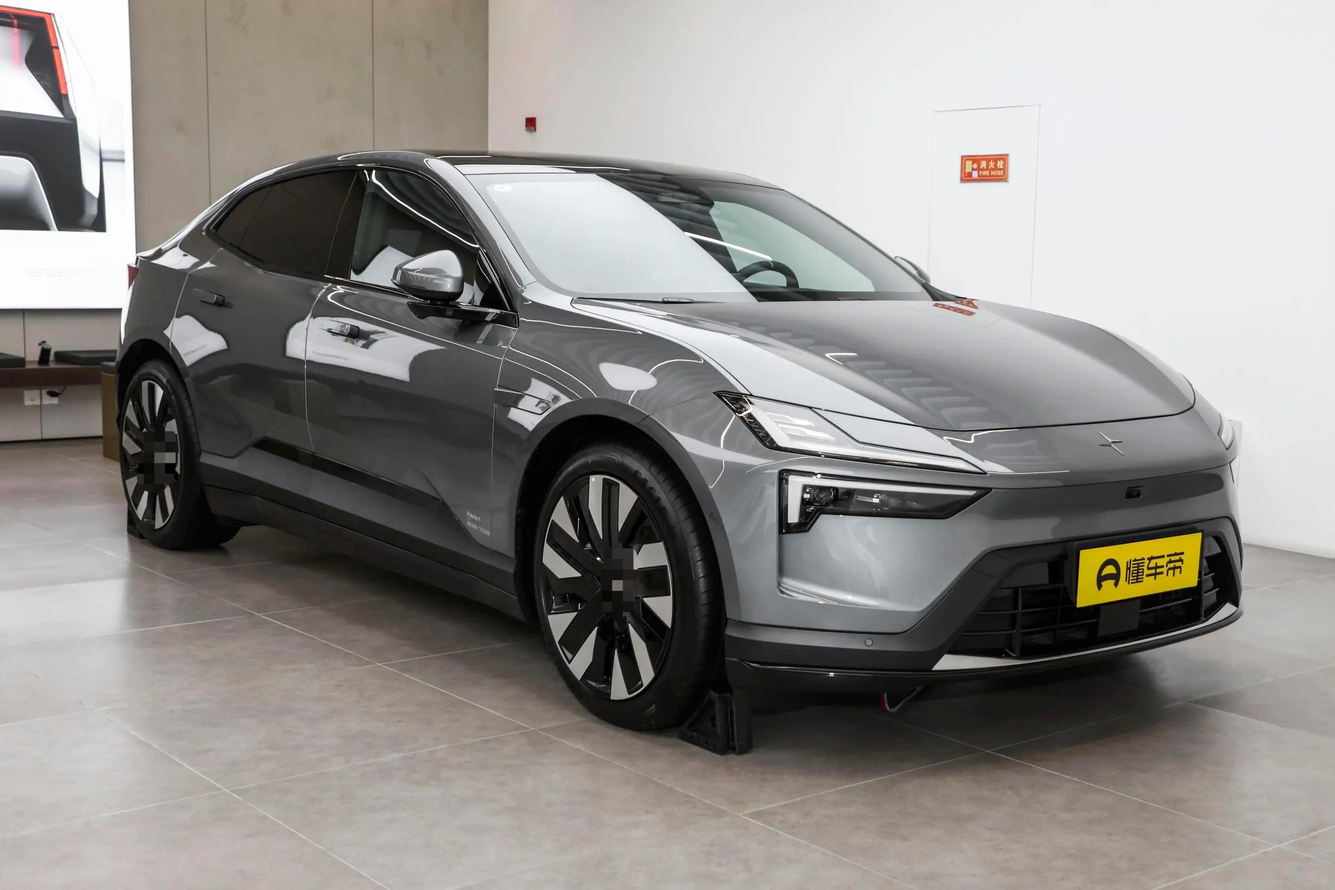Polestar: (1099, 432, 1124, 455)
